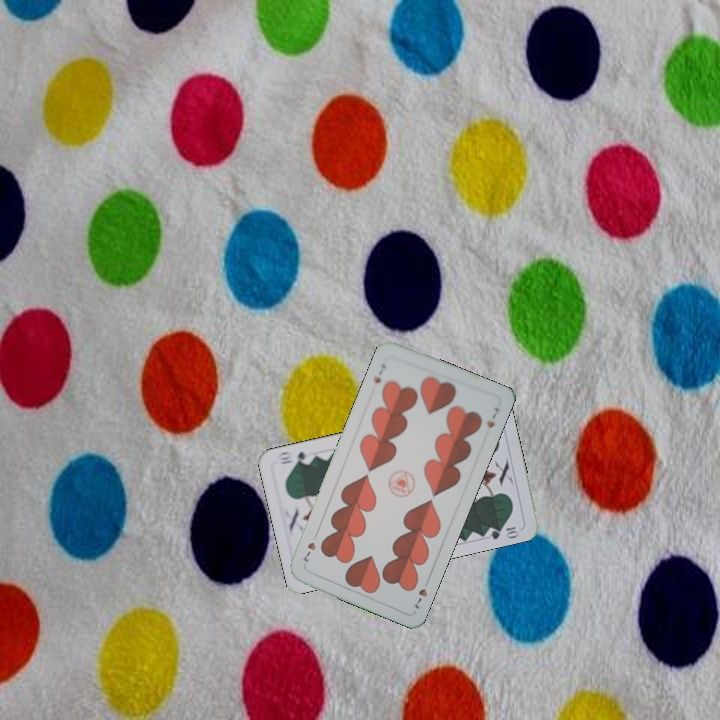H7: (410, 574, 431, 612), (370, 359, 388, 386)
